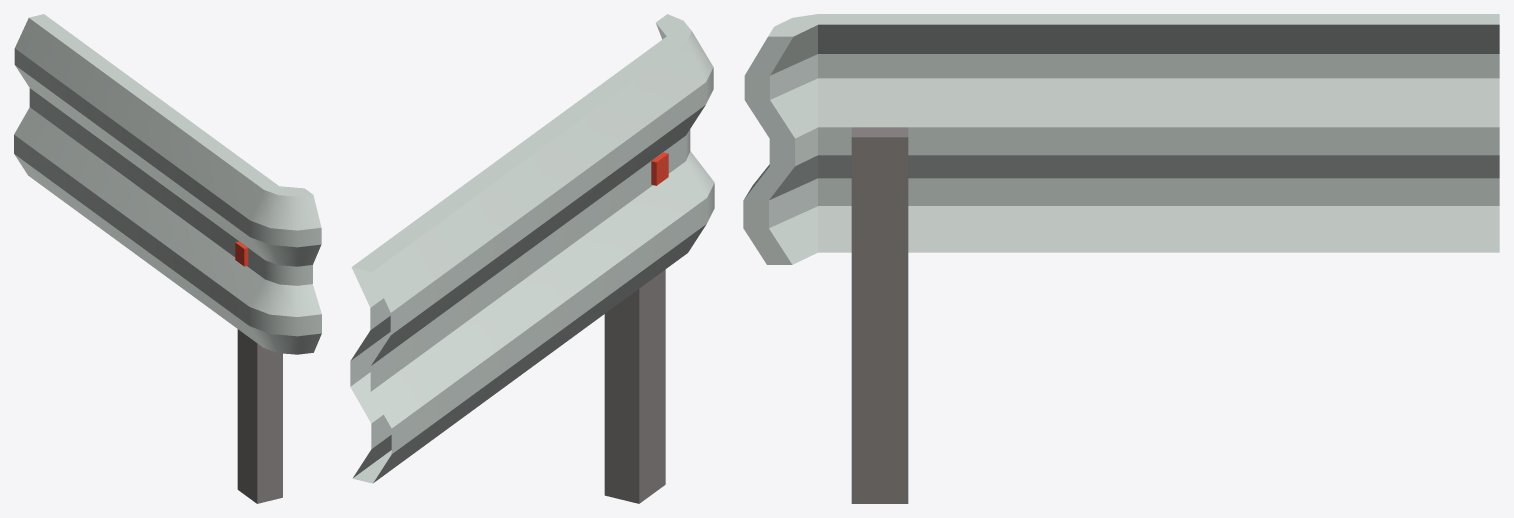
The model's file is SM_Fencing_End_02.fbx.
3 views of the same model, side by side, from view 1: azimuth 30°, elevation 25°; view 2: azimuth 150°, elevation 25°; view 3: azimuth 270°, elevation 25° (orthographic). The views are drawn at different scales.
Parts seen in each view (by area): view 1: SM_Fencing_End_02; view 2: SM_Fencing_End_02; view 3: SM_Fencing_End_02.
Part boxes in pixels (x1,y1,x2,y2): SM_Fencing_End_02: (14,14,321,503); SM_Fencing_End_02: (350,14,714,503); SM_Fencing_End_02: (743,14,1499,503).
Bounding box in the file's own units: 12.62 × 83.46 × 122.
